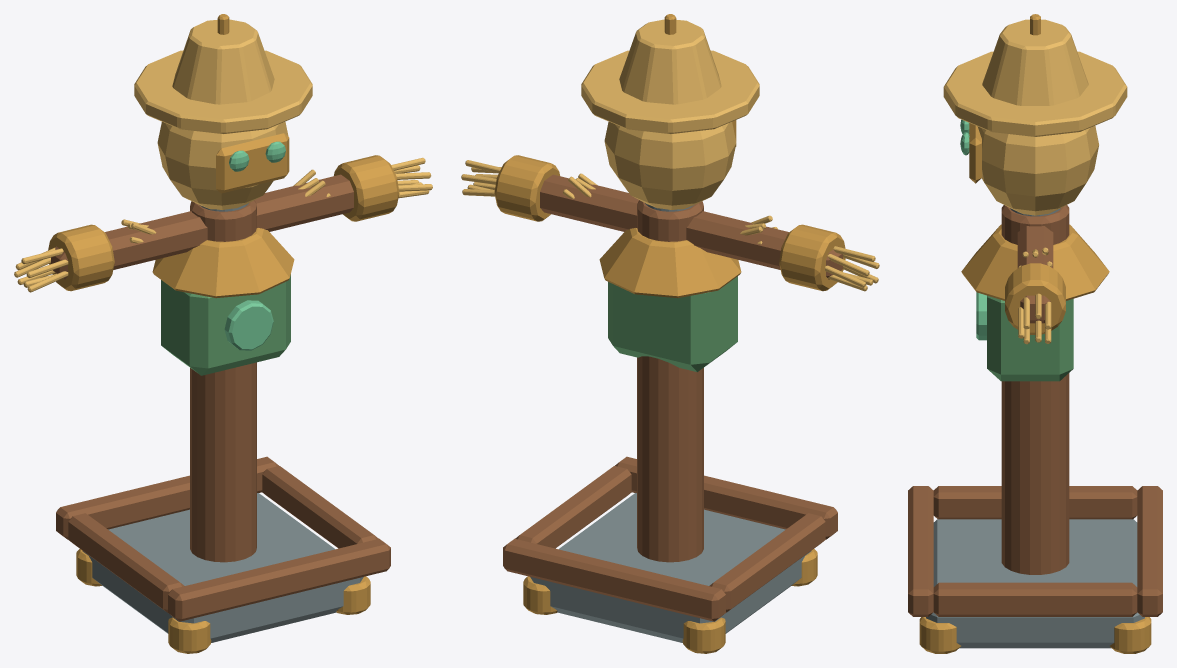
The model's file is PlantProtector.glb.
3 renders of one model, left to right at view 1: azimuth 30°, elevation 25°; view 2: azimuth 150°, elevation 25°; view 3: azimuth 270°, elevation 25°, orthographic. The views are drawn at different scales.
Visible parts, largest first — view 1: PlantProtector_Mesh; view 2: PlantProtector_Mesh; view 3: PlantProtector_Mesh.
Part boxes in pixels (x1=…): PlantProtector_Mesh: x1=14, y1=14, x2=432, y2=653; PlantProtector_Mesh: x1=461, y1=14, x2=879, y2=653; PlantProtector_Mesh: x1=908, y1=14, x2=1162, y2=653.
Bounding box in the file's own units: 1.88 × 2.56 × 1.
